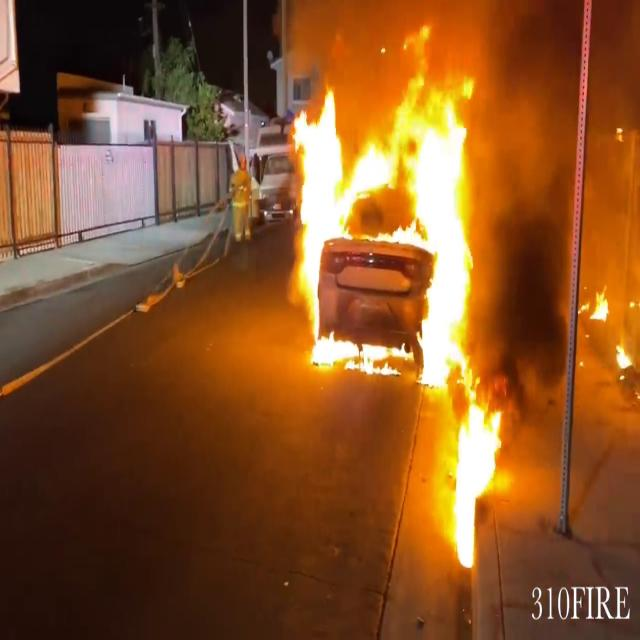Fire: (286, 37, 500, 383), (446, 388, 508, 567), (585, 273, 640, 377)
